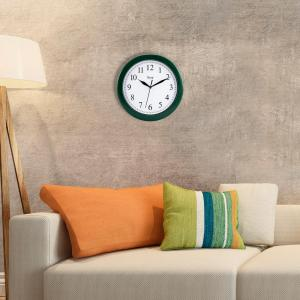clock: (122, 61, 177, 115)
